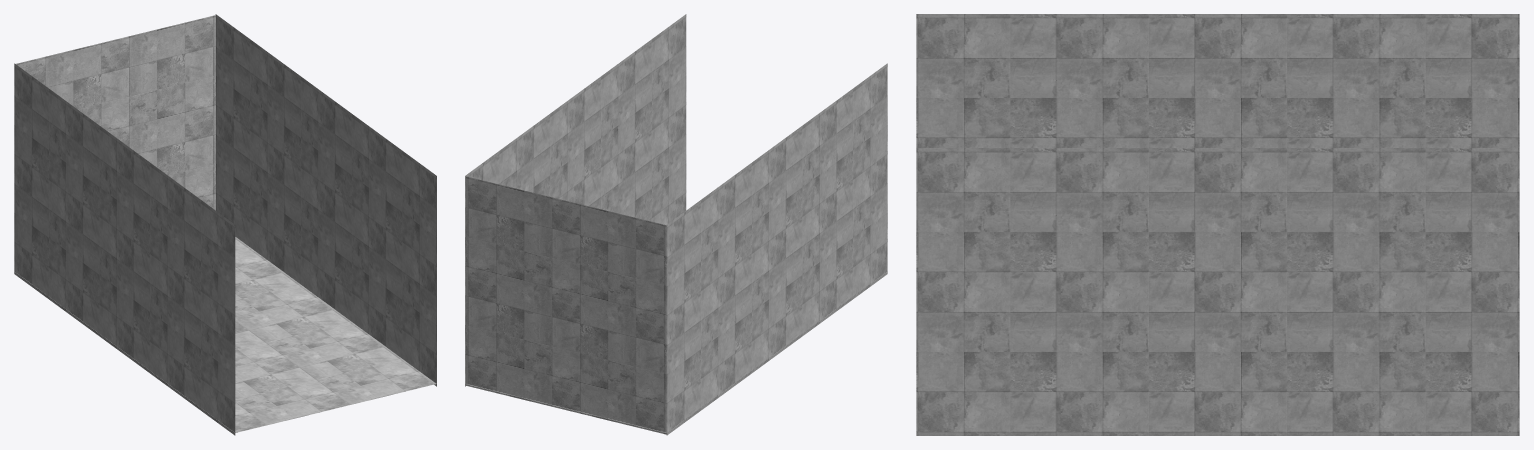
Rendered from room.glb.
3 renders of one model, left to right at view 1: azimuth 30°, elevation 25°; view 2: azimuth 150°, elevation 25°; view 3: azimuth 270°, elevation 25°, orthographic. The views are drawn at different scales.
Visible parts, largest first — view 1: Plane.001, Plane.002, Plane, Plane.003; view 2: Plane.001, Plane.003, Plane.002; view 3: Plane.002, Plane.001.
Part boxes in pixels (x1,y1,x2,y2): Plane.001: (14, 63, 235, 435); Plane.002: (215, 14, 436, 386); Plane: (15, 237, 436, 432); Plane.003: (16, 15, 215, 210); Plane.001: (666, 63, 887, 435); Plane.003: (465, 176, 666, 434); Plane.002: (465, 14, 686, 386); Plane.002: (916, 148, 1519, 435); Plane.001: (916, 14, 1519, 147).
Size of the model in its own units: 3.74 by 3.74 by 7.1.
1 material, 1 textured.
